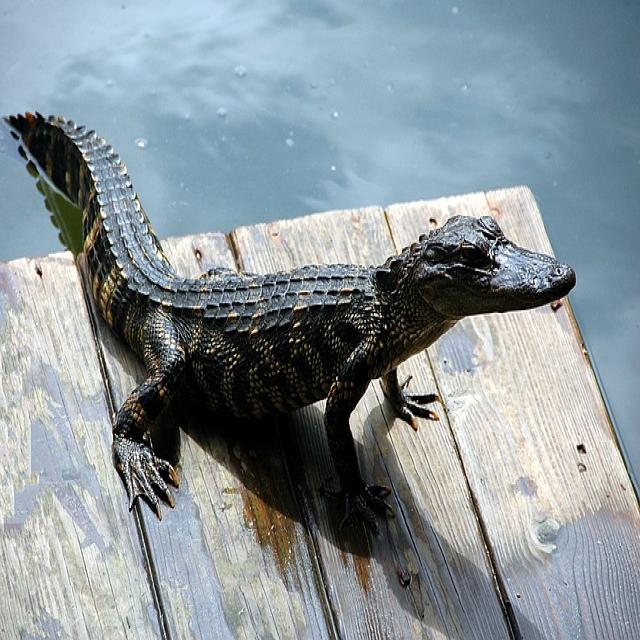Carnivorous: (0, 115, 576, 538)
